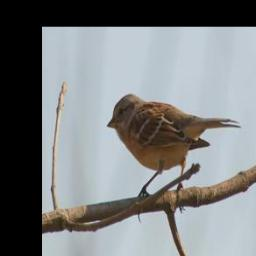Sparrow: (105, 92, 243, 222)
